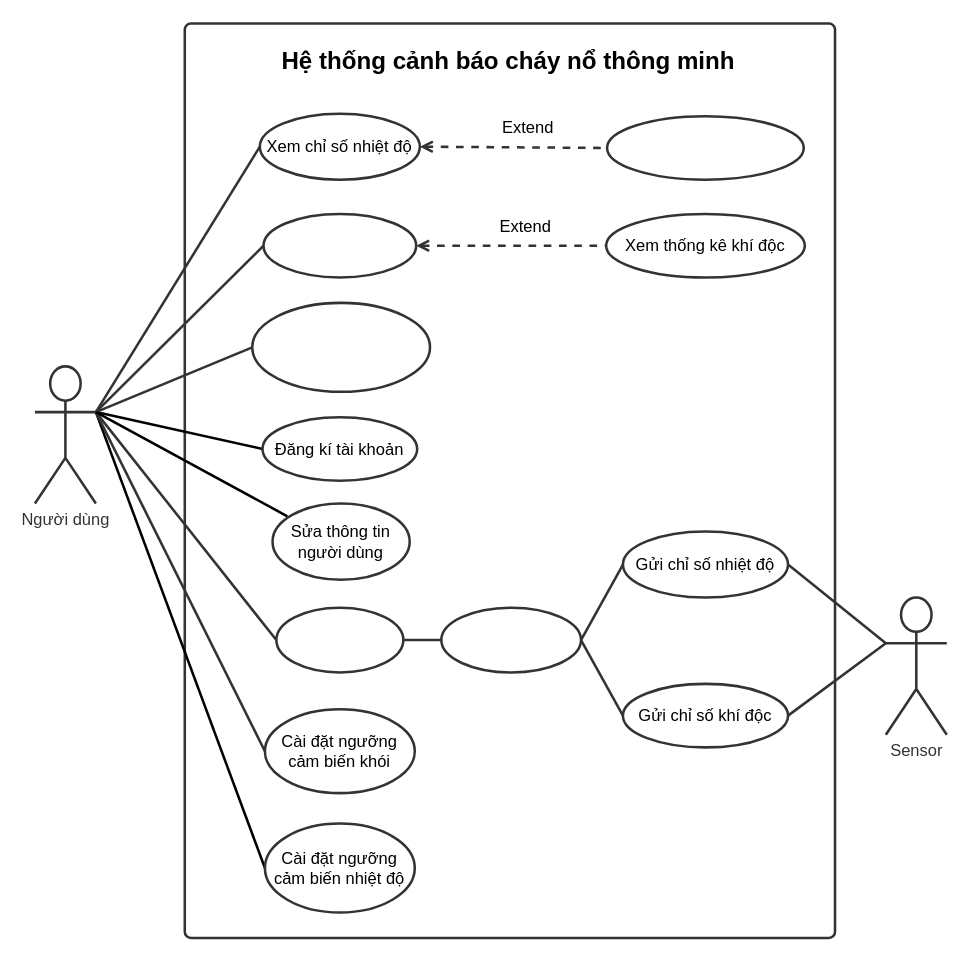
Some shapes in this 970 by 960 pixel diagram are drawn without their labels. Here are the shapes that lost their labels. From the top down, the centre of each, then its label:
At point (704, 147): "Xem thống kê nhiệt độ".
At point (339, 245): "Xem chỉ số khí độc".
At point (340, 346): "Nhận thông báo cháy qua điện thoại".
At point (339, 639): "Báo cháy".
At point (510, 639): "Nhận dạng cháy".
